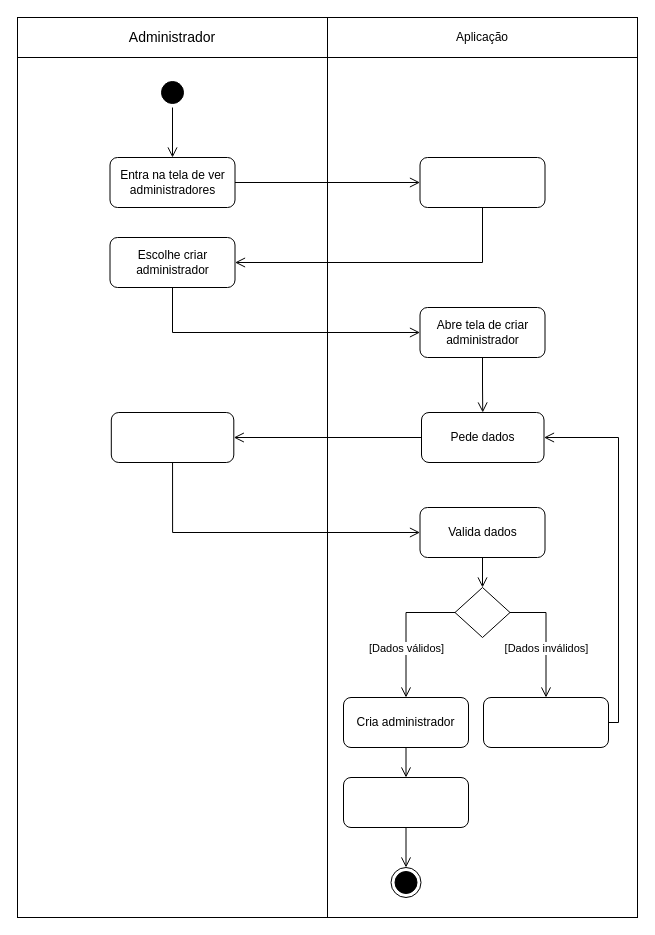
Some shapes in this 655 by 935 pixel diagram are drawn without their labels. Each missing label, with the centre of its shape:
"Informa que o administrador foi criado com sucesso" belongs at pixel 405 802.
"Informa que os dados são inválidos" belongs at pixel 545 722.
"Insere dados" belongs at pixel 172 437.
"Mostra administradores" belongs at pixel 482 182.
